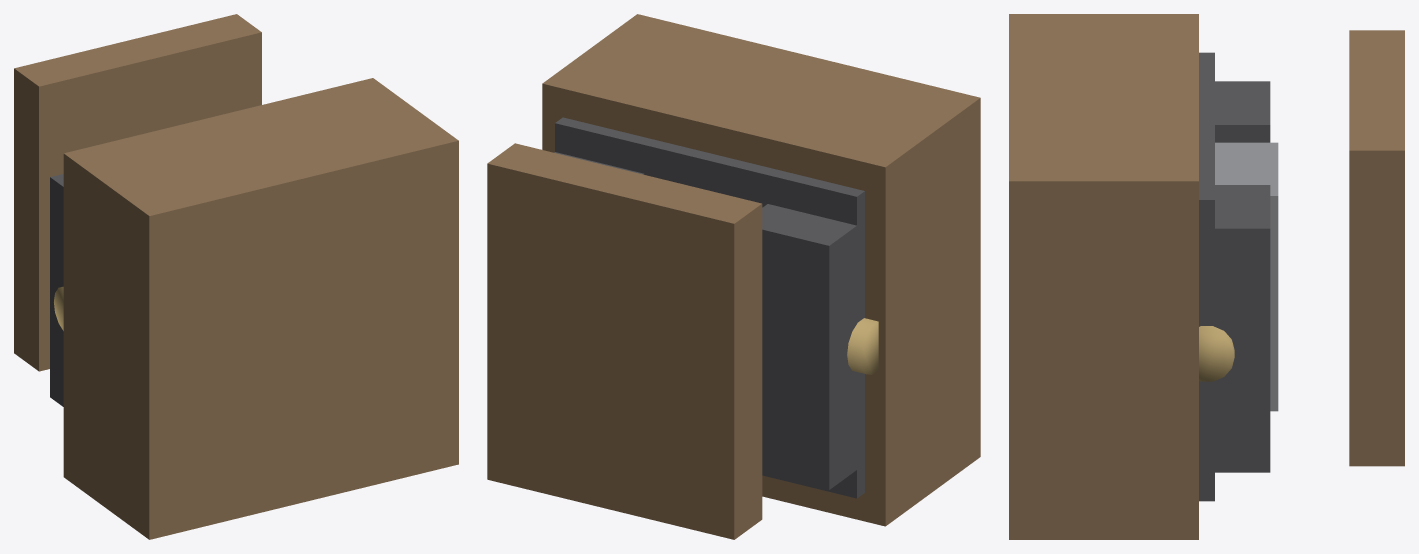
The model's file is hinge.glb.
3 views of the same model, side by side, from view 1: azimuth 30°, elevation 25°; view 2: azimuth 150°, elevation 25°; view 3: azimuth 270°, elevation 25° (orthographic). The views are drawn at different scales.
Parts seen in each view (by area): view 1: HingeBase, HingeArm; view 2: HingeBase, HingeArm; view 3: HingeBase, HingeArm.
Boxes of the visible parts, x1,y1,x2,y2 form: HingeBase: [50, 78, 458, 539]; HingeArm: [14, 14, 261, 371]; HingeBase: [542, 14, 980, 526]; HingeArm: [487, 143, 878, 539]; HingeBase: [1009, 14, 1270, 539]; HingeArm: [1199, 30, 1404, 466].
Bounding box in the file's own units: 0.5 × 0.51 × 0.5.
